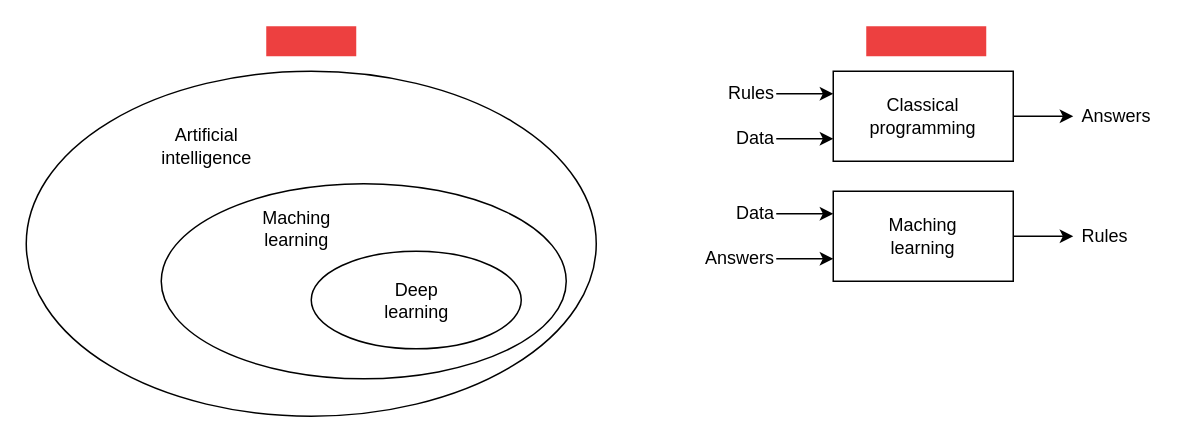
Some shapes in this 1196 by 443 pixel diagram are drawn without their labels. The shapes that lost their labels are listed below. From the top down, each one's centre as x and y in pixels, then its label:
(311,41): inclusive
(926,41): Input/Output
